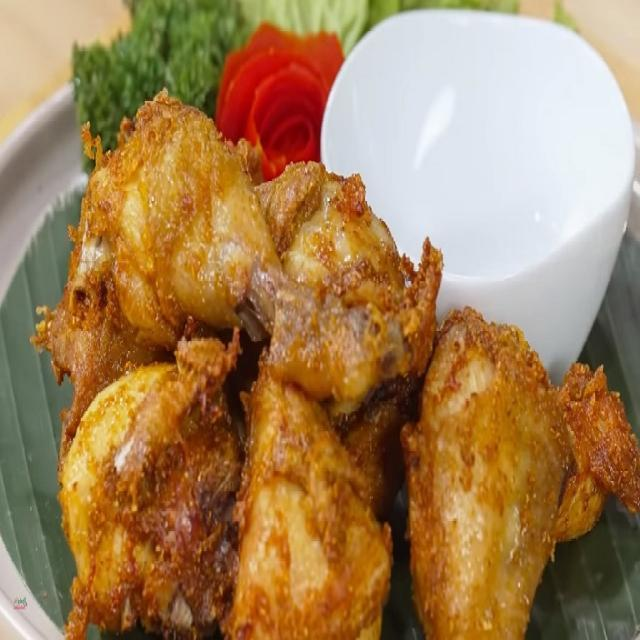ayam_goreng: (32, 104, 618, 619)
